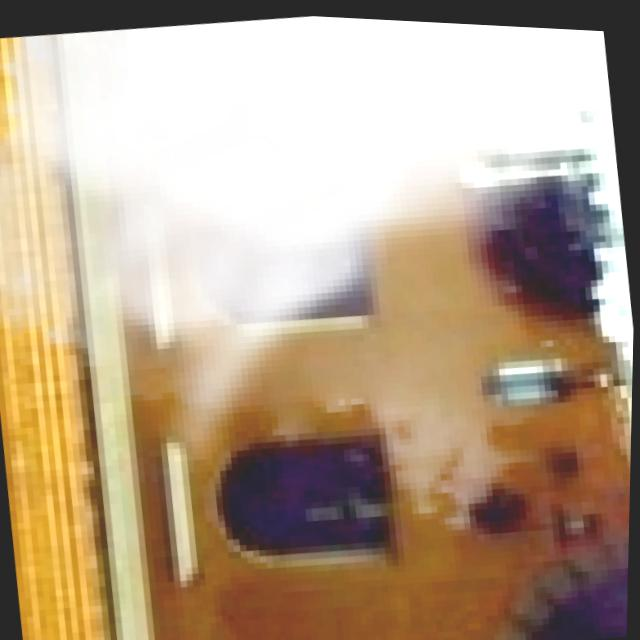smoke: (0, 0, 640, 590)
